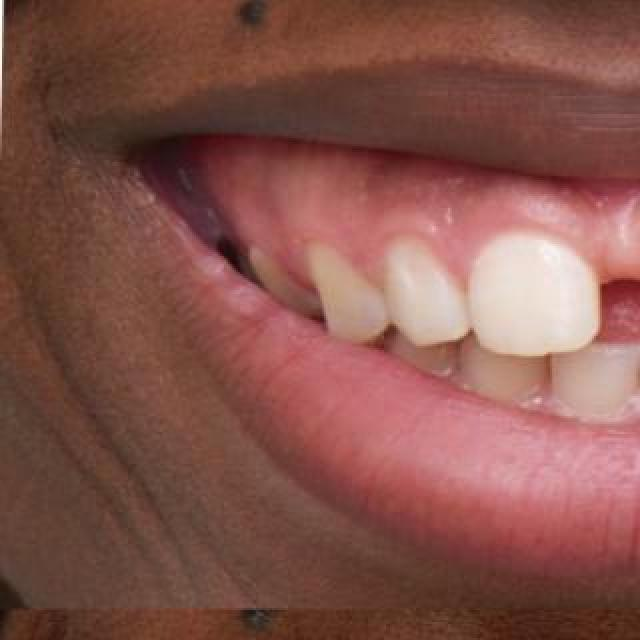spacing: (568, 256, 640, 352)
